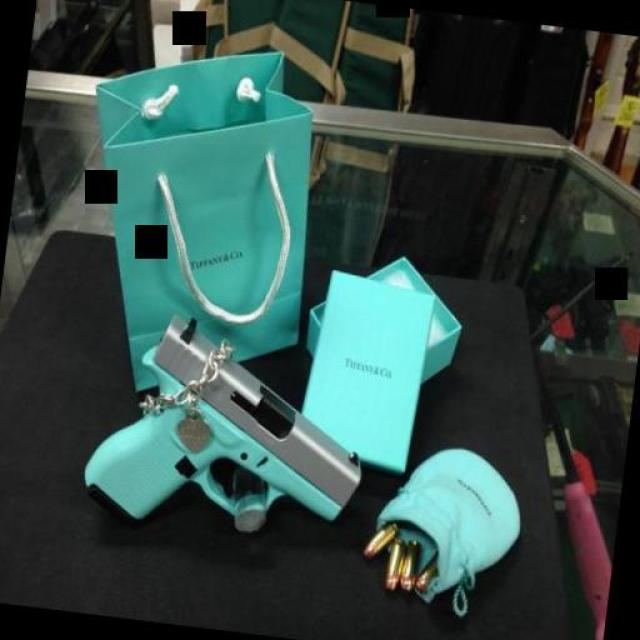gun: (76, 309, 378, 560)
